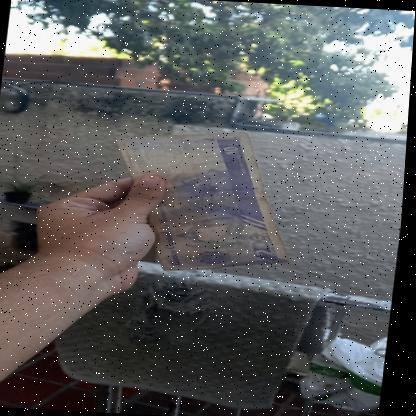ten-back-vef: (101, 127, 305, 278)
